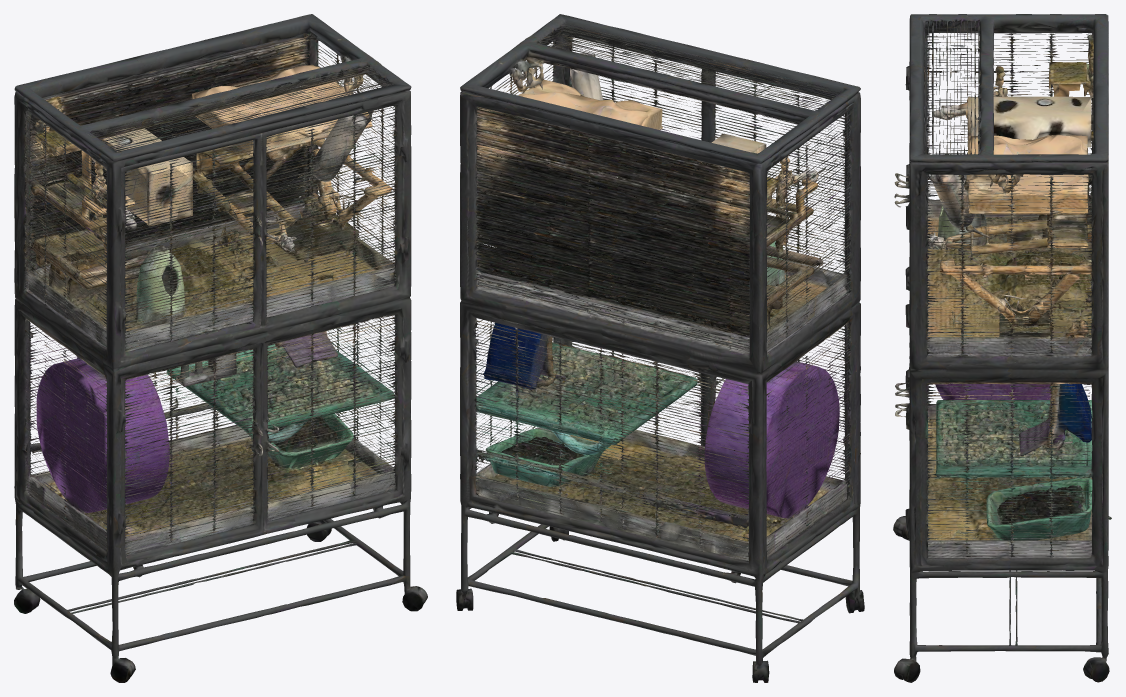
File: pheb.glb
The picture shows the model from 3 angles, left to right: view 1: azimuth 30°, elevation 25°; view 2: azimuth 150°, elevation 25°; view 3: azimuth 270°, elevation 25°; orthographic projection.
Bounding box in the file's own units: 39271 × 62207 × 23672.
1 material, 1 textured.
